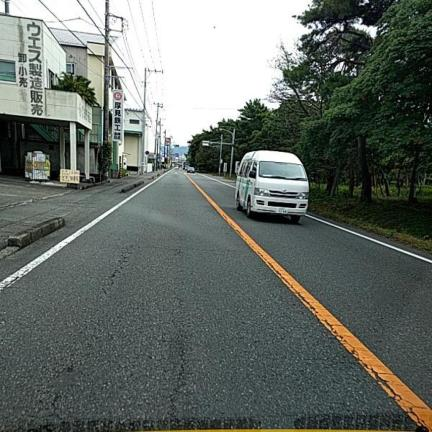Road: (0, 171, 431, 429)
